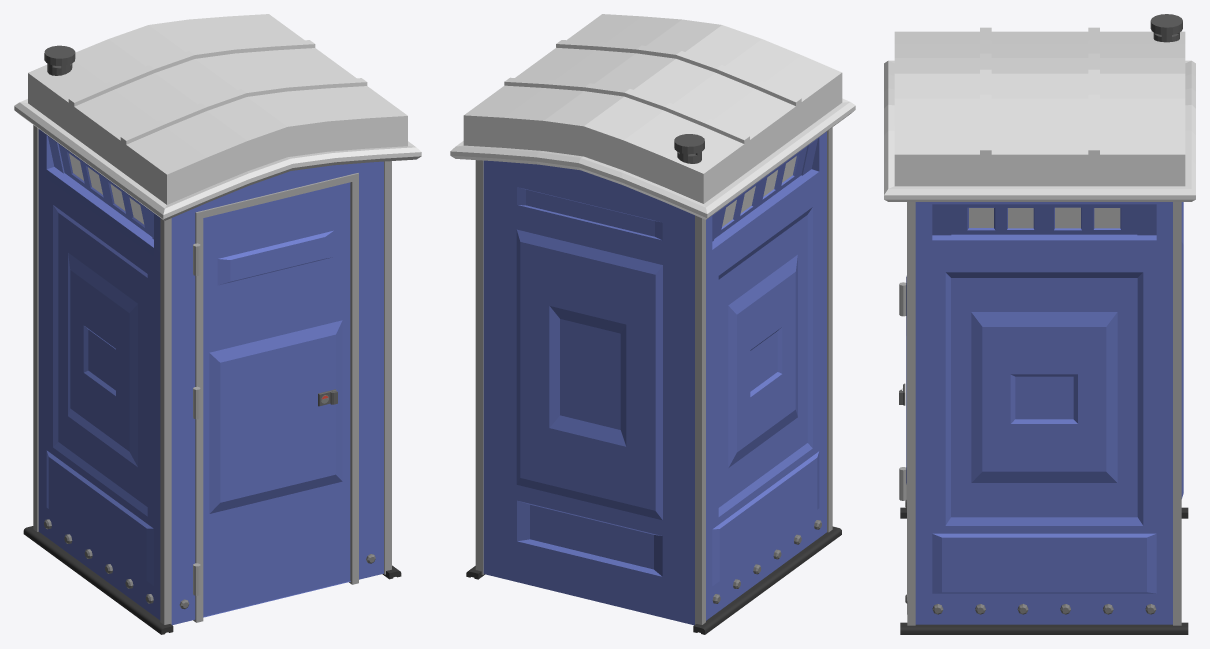
Rendered from portaPotty.fbx.
The picture shows the model from 3 angles, left to right: view 1: azimuth 30°, elevation 25°; view 2: azimuth 150°, elevation 25°; view 3: azimuth 270°, elevation 25°; orthographic projection. The views are drawn at different scales.
Parts seen in each view (by area): view 1: Porta Potty; view 2: Porta Potty; view 3: Porta Potty.
Part boxes in pixels (x1,y1,x2,y2): Porta Potty: (14,14,421,634); Porta Potty: (450,14,855,634); Porta Potty: (884,14,1195,634).
Bounding box in the file's own units: 126 × 225 × 126.
